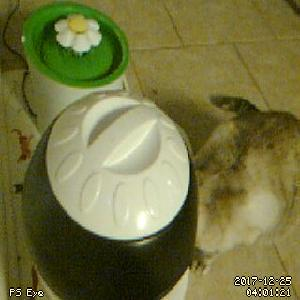cat: (188, 92, 300, 278)
fountain: (20, 1, 130, 90)
